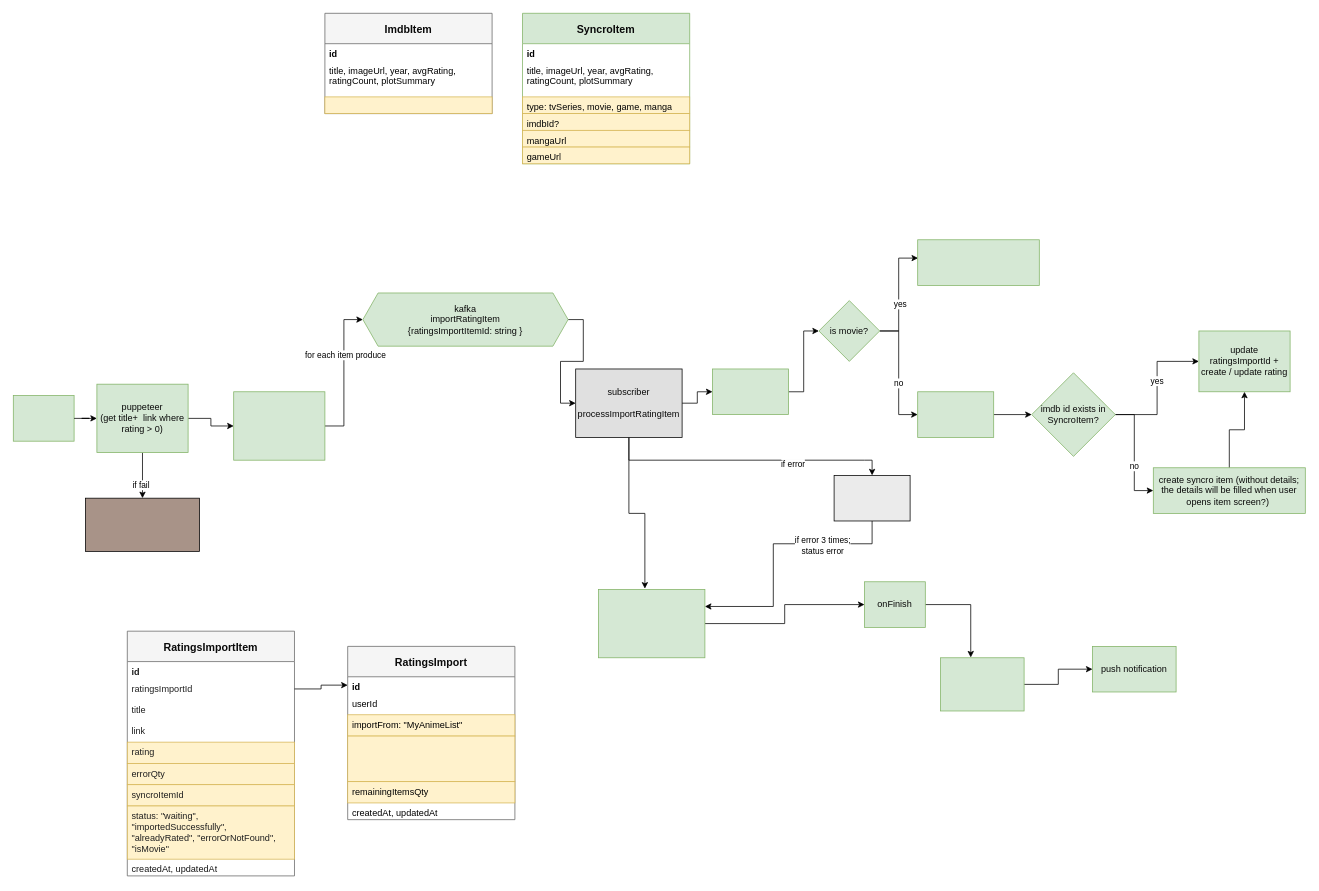
This 1319x891 diagram has some shape labels left out. Each missing label, with the centre of its shape:
async init: pixel 43 418
create ratingsImport error + push notification: pixel 142 524
decrement remainingItemsQty from RatingsImport: pixel 651 623
for each item, create a ratingsImportItem: pixel 279 425
generate notification: pixel 982 684
go to link -> check if !== movie: pixel 750 391
google cache -> get first imdb item id + image: pixel 955 414
increase error qty: pixel 871 498
status: "started", "finishedSuccessfully", "errorWhileInitialScraping": pixel 431 758
type: tvSeries, movies: pixel 408 105
update RatingsImportItem isMovie: pixel 978 262
